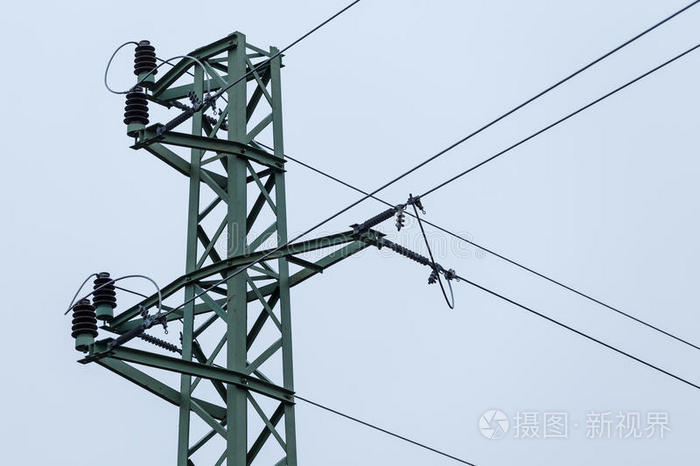insulator: (70, 302, 100, 337), (93, 274, 121, 311), (120, 92, 149, 124), (133, 45, 161, 78)
